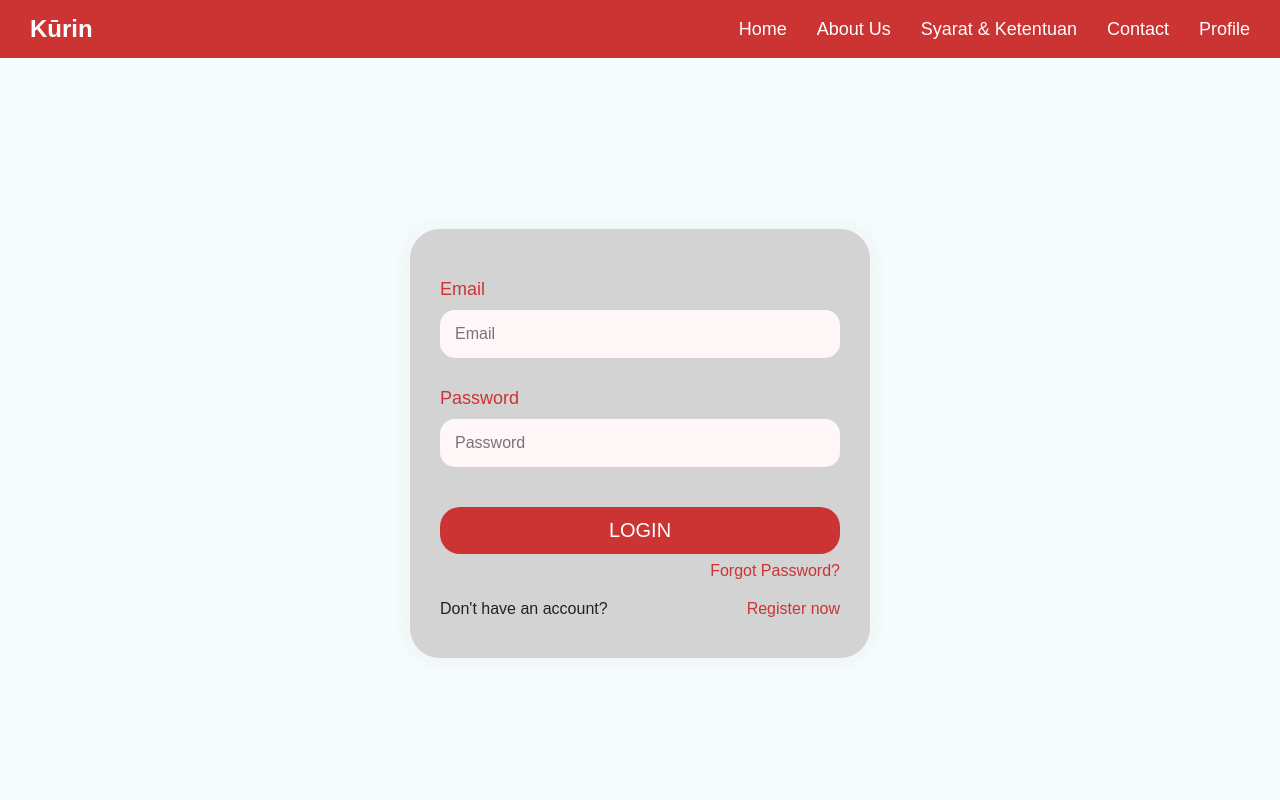
Test: User Login - negatif dan positif › menolak login dengan kredensial salah
The width and height of the screenshot is (1280, 800).
Expected: the text "Email" is shown, x1=440 y1=278 x2=485 y2=298
Type "wrong@example.com" into the field with placeholder "Email".
click(640, 334); type("wrong@example.com")  # box x1=440 y1=310 x2=840 y2=358
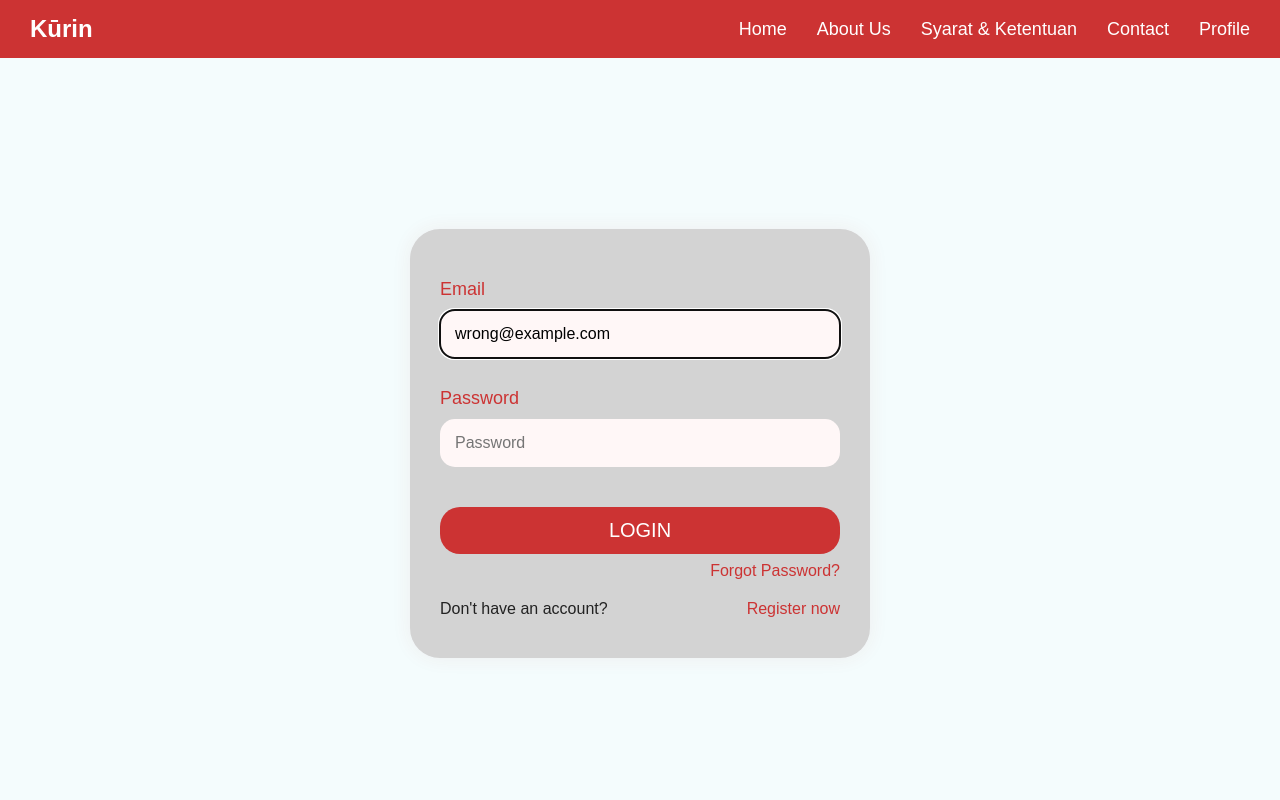
Expected: the text "Password" is shown, x1=440 y1=388 x2=519 y2=408
Type "wrongpass" into the password field with placeholder "Password".
click(640, 443); type("wrongpass")  # box x1=440 y1=419 x2=840 y2=467
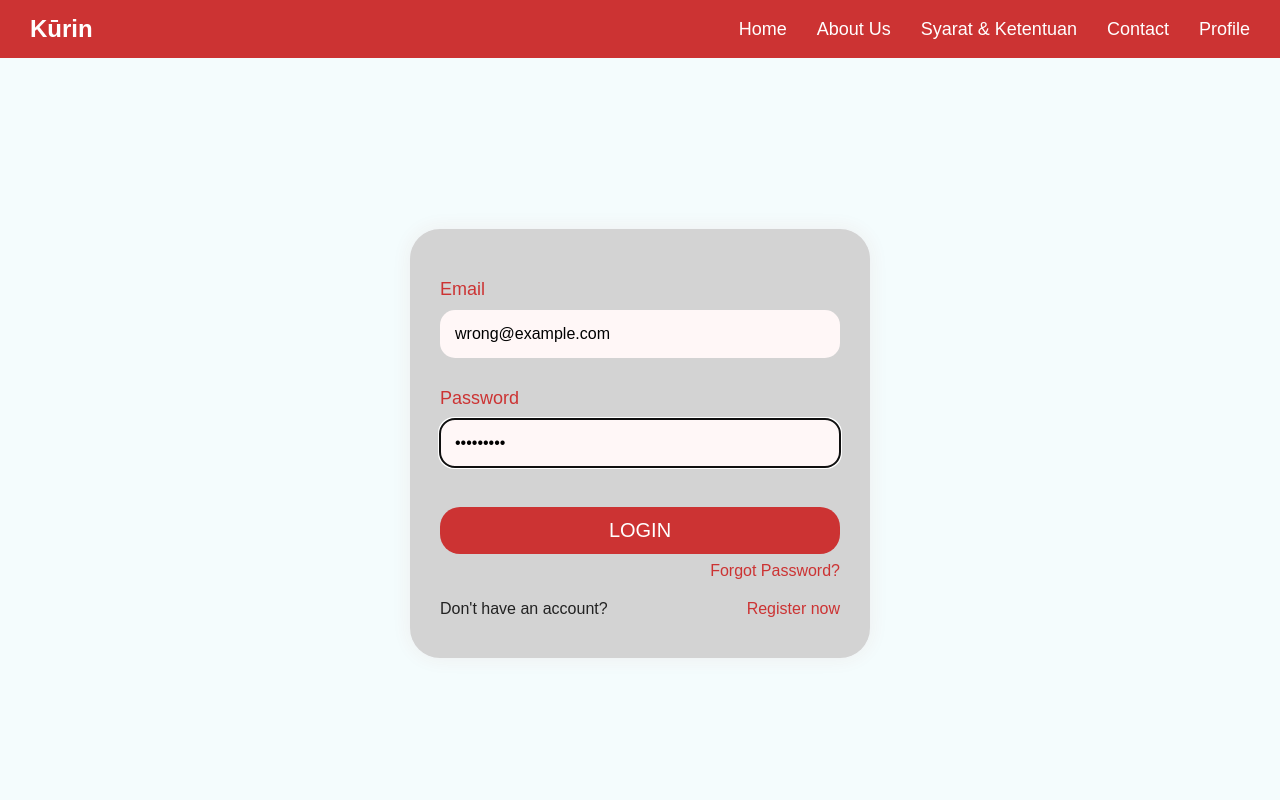
Click the button "LOGIN".
click(640, 531)  # box x1=440 y1=507 x2=840 y2=554
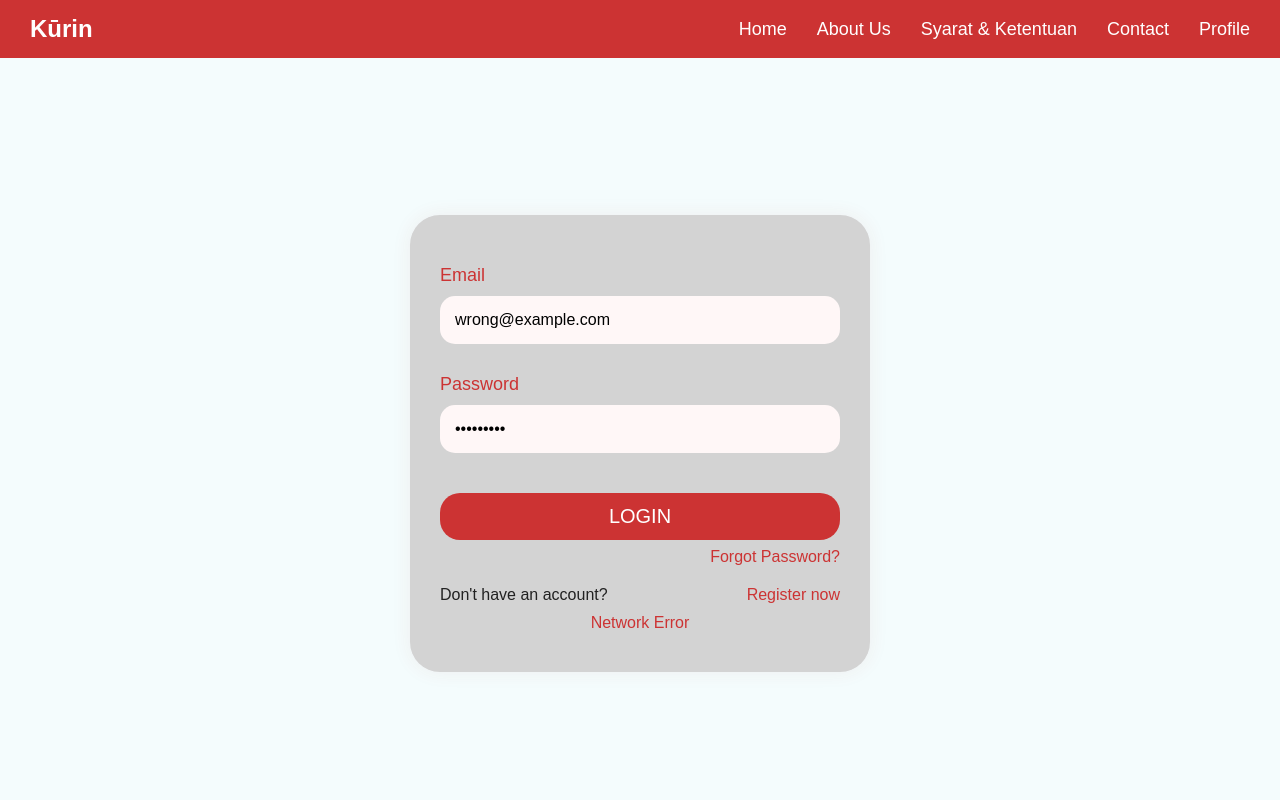
Expected: the text "Network Error" is shown, x1=591 y1=614 x2=689 y2=630
